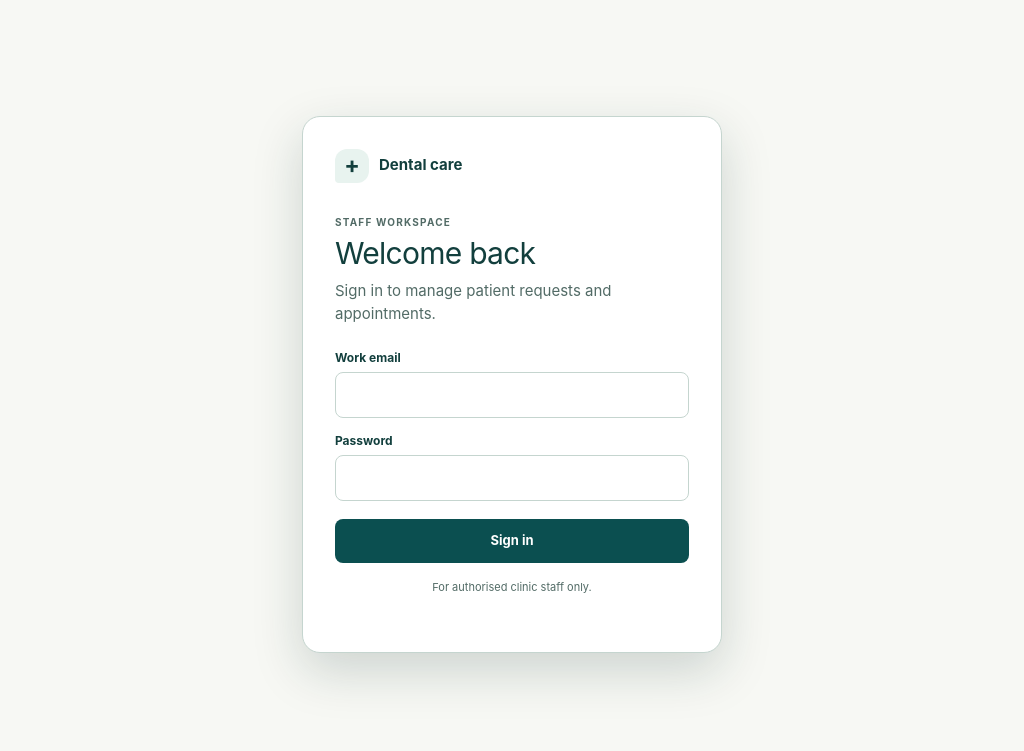
Test: staff CRM actions › shows loading, empty, retry, and login error states
The width and height of the screenshot is (1024, 751).
Type "alex@example.test" into the field labelled "Work email". click: (512, 395)
box: [335,372,689,418]
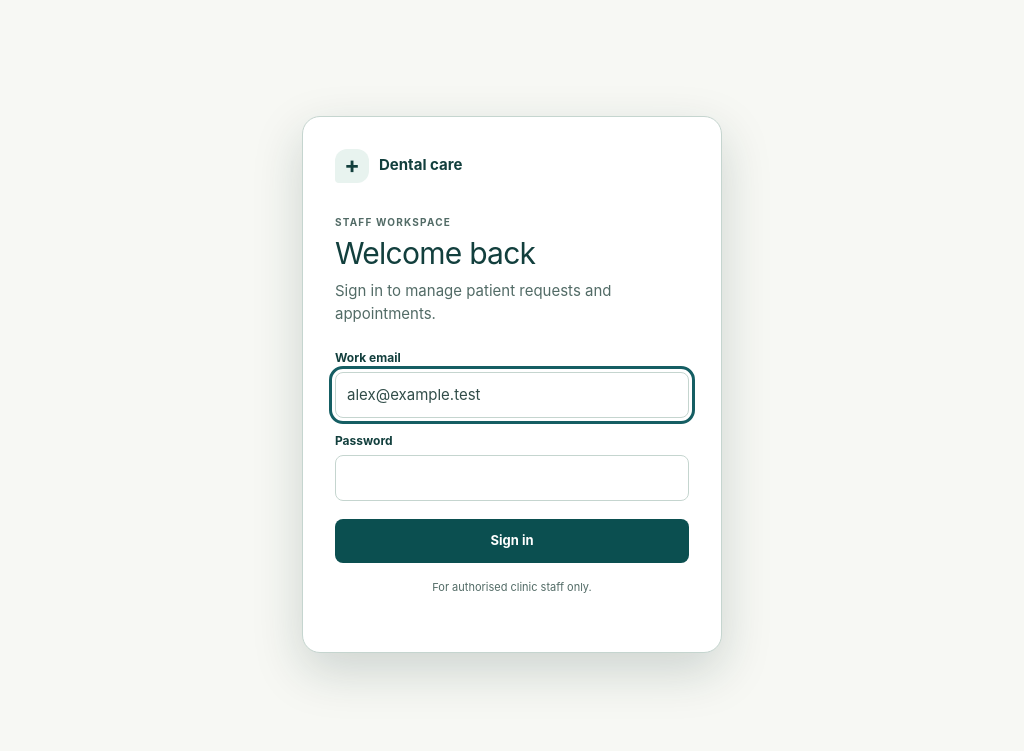
Type "correct-horse" into the password field labelled "Password". click: (512, 478)
box: [335,455,689,501]
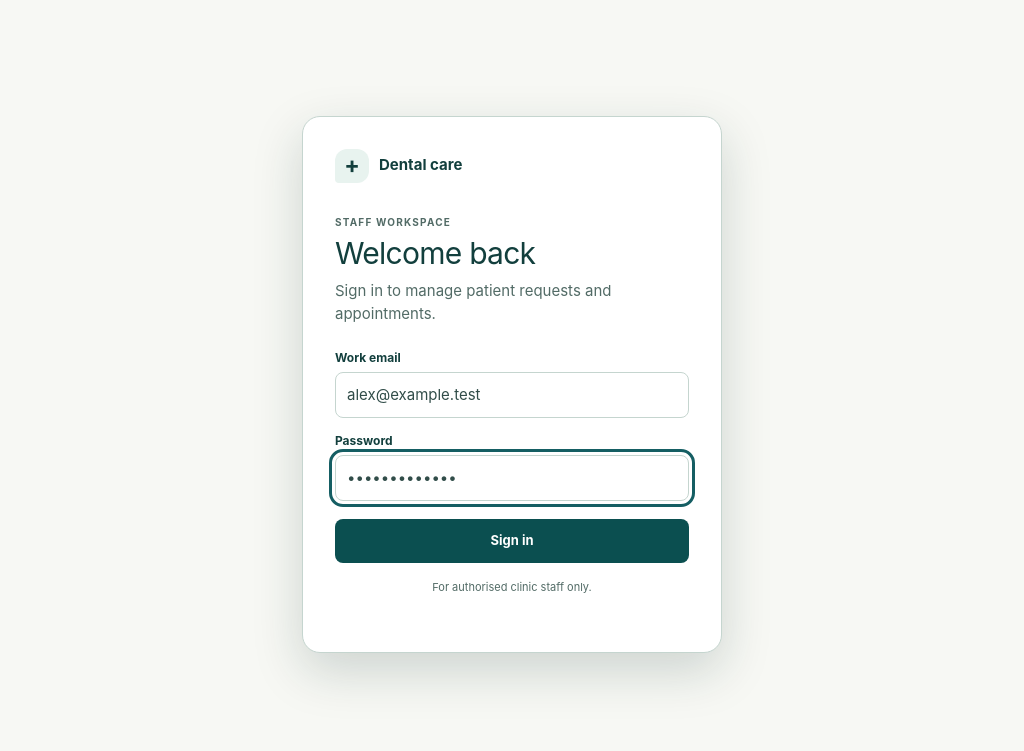
Click the button "Sign in". click: (512, 541)
box: [335,519,689,563]
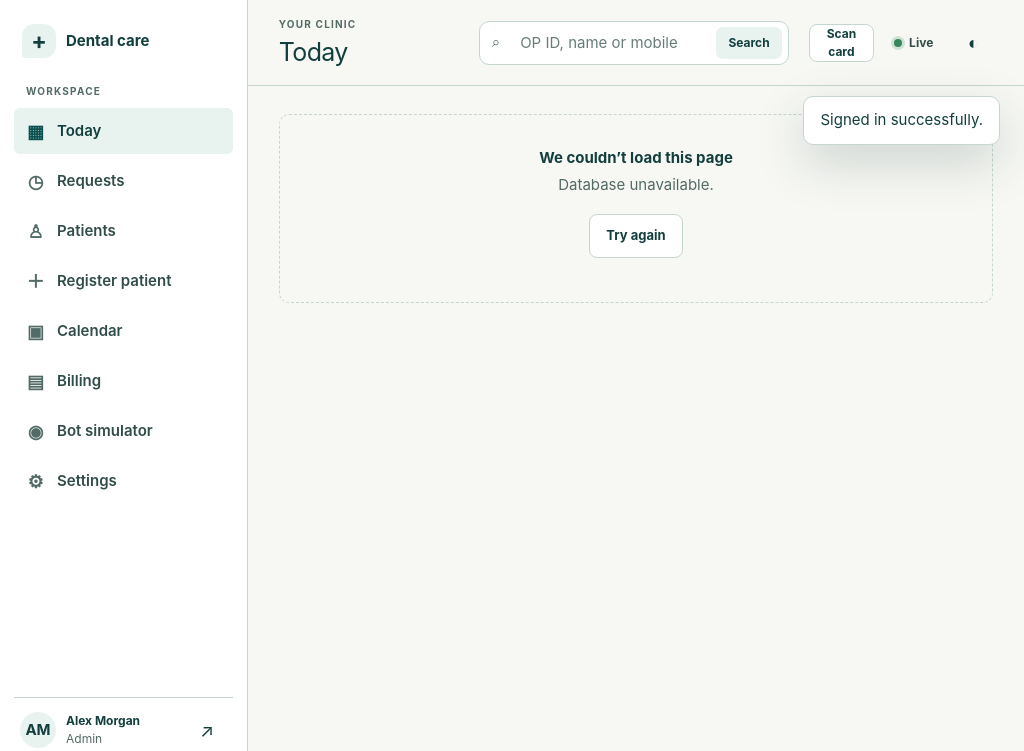
Result: the heading "Today" is shown at [279,37,348,67]
Result: the message "We couldn’t load this page Database unavailable. Try again" is shown at [279,114,993,303]
Click the button "Try again". click: (636, 236)
box: [589,214,683,258]
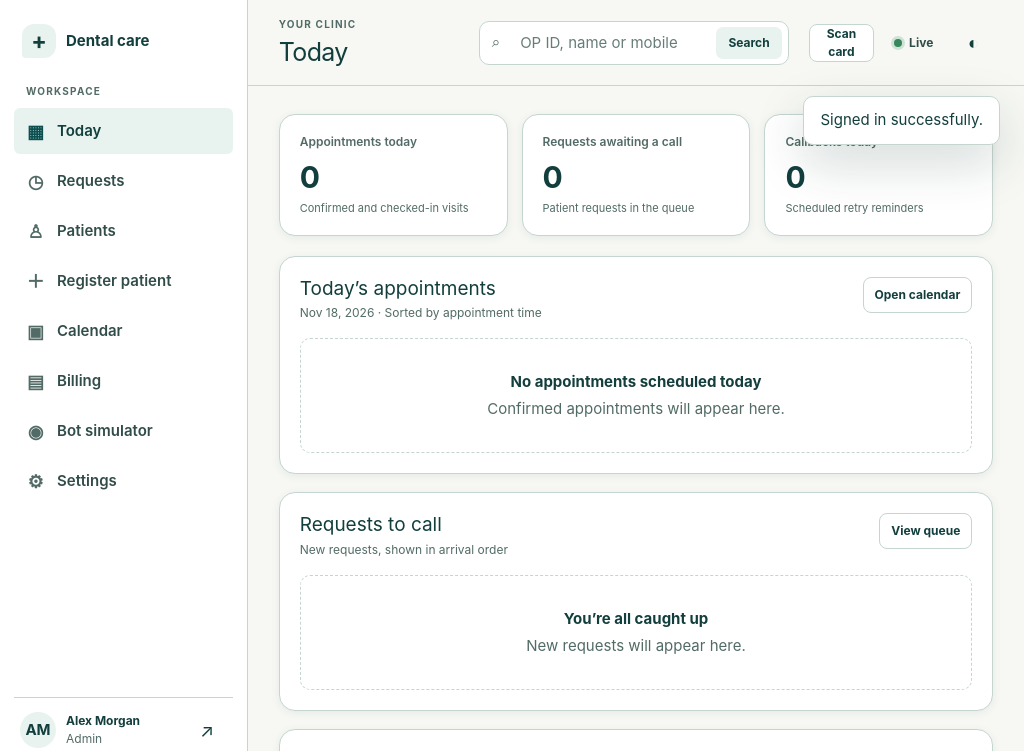
Result: the text "No appointments scheduled today" is shown at [510,372,762,391]
